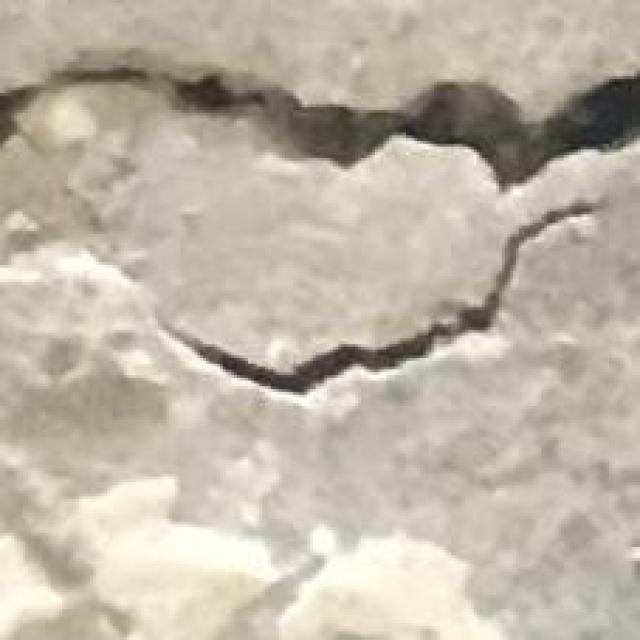branched cracks: (0, 59, 639, 396)
